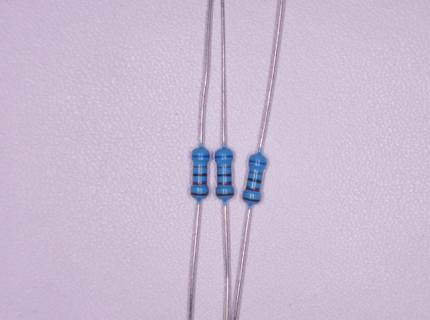Black band: (247, 177, 262, 184), (216, 173, 232, 177), (193, 173, 208, 177)
Blue band: (249, 159, 267, 166), (191, 154, 210, 158), (215, 155, 234, 159)
Brown band: (242, 195, 260, 203), (190, 191, 209, 196), (215, 192, 234, 196)
Grey band: (249, 170, 263, 176), (193, 165, 208, 169), (217, 165, 232, 169)
Red band: (246, 185, 261, 192), (217, 181, 231, 186), (192, 181, 207, 185)
